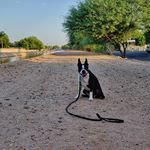puppy: (72, 55, 107, 106)
